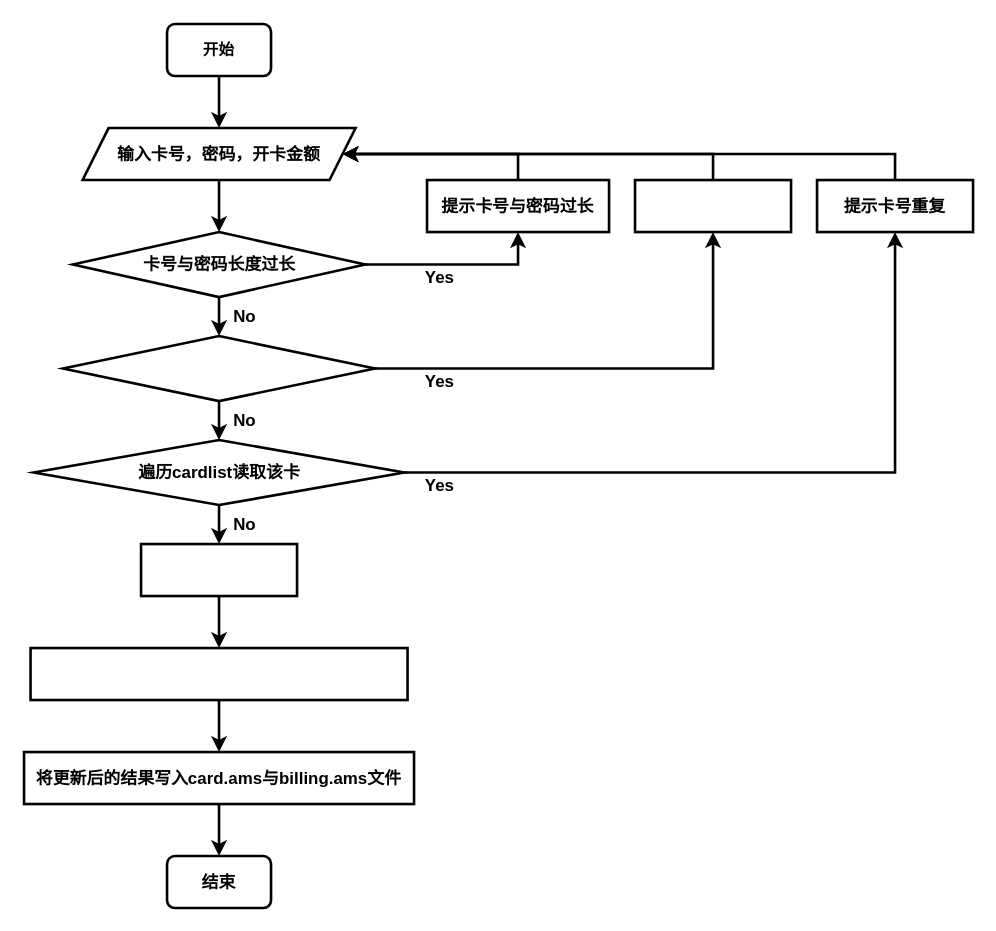
The diagram is 996 pixels wide and 931 high, and some of its shapes have lost their labels. The shapes that lost their labels are listed below. From the top down, each one's centre as x and y in pixels, then its label:
At point 712,205: "提示充值金额小于0".
At point 218,368: "判断充值金额小于0".
At point 218,569: "将该卡的金额添加".
At point 218,673: "更新Cardlist,并记录该次消费进Billinglist".
